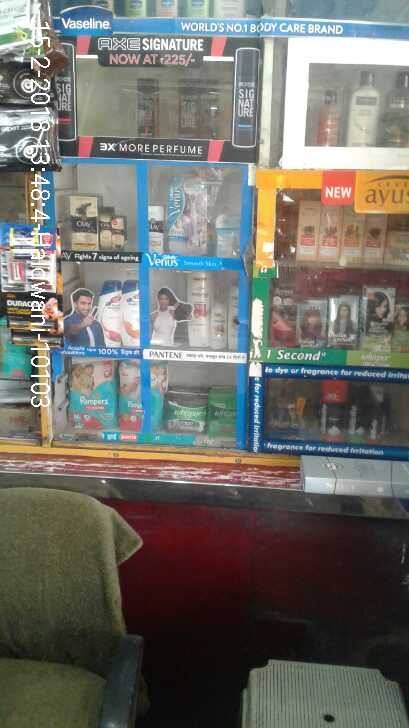venus: (168, 172, 209, 253), (217, 213, 243, 254)
